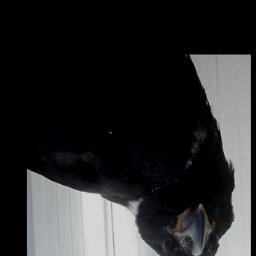Crow: (27, 55, 238, 256)
